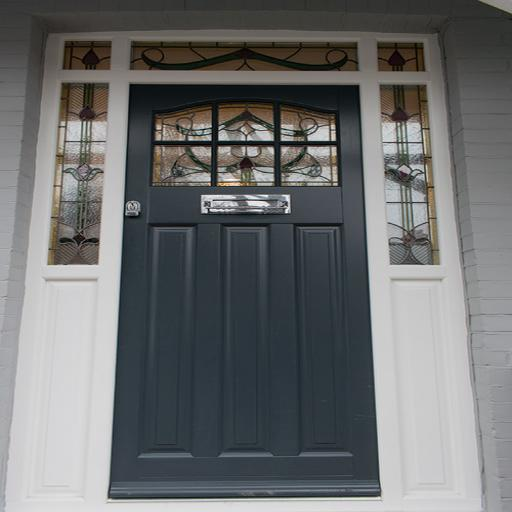Door: (109, 83, 383, 500)
